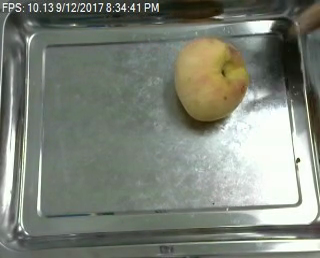Peach: (172, 35, 248, 123)
